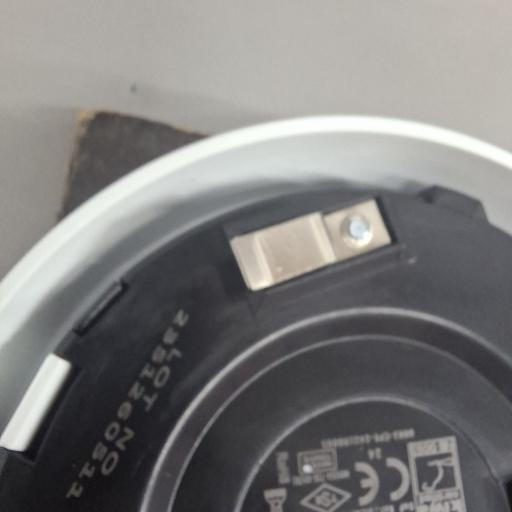yaysiz: (225, 197, 392, 292)
